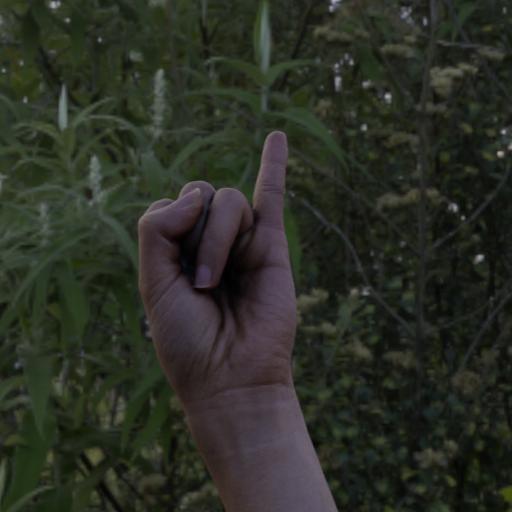I: (131, 121, 313, 426)
